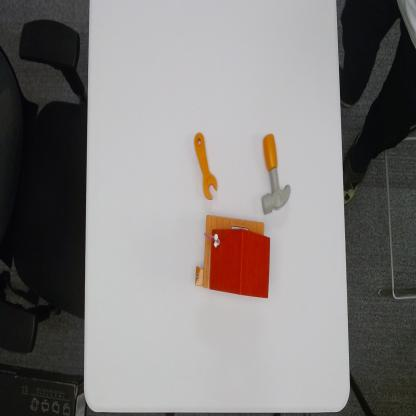Hammer: (261, 133, 291, 215)
House: (194, 213, 272, 301)
Screwdriver: (193, 130, 219, 201)
